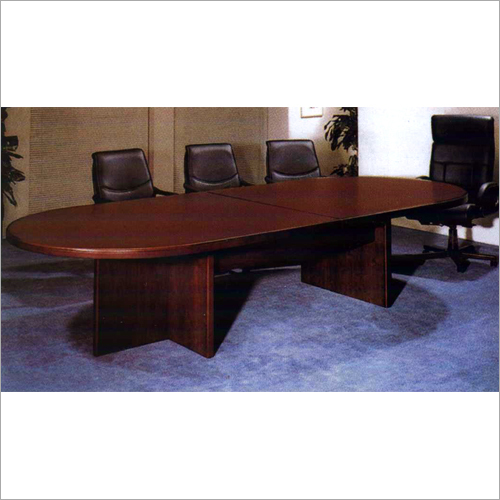conference_table: (8, 175, 468, 359)
